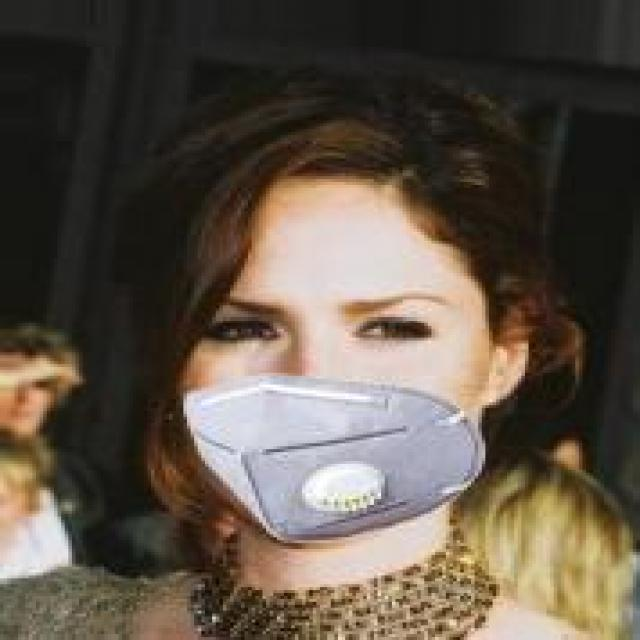mask: (111, 80, 594, 578)
